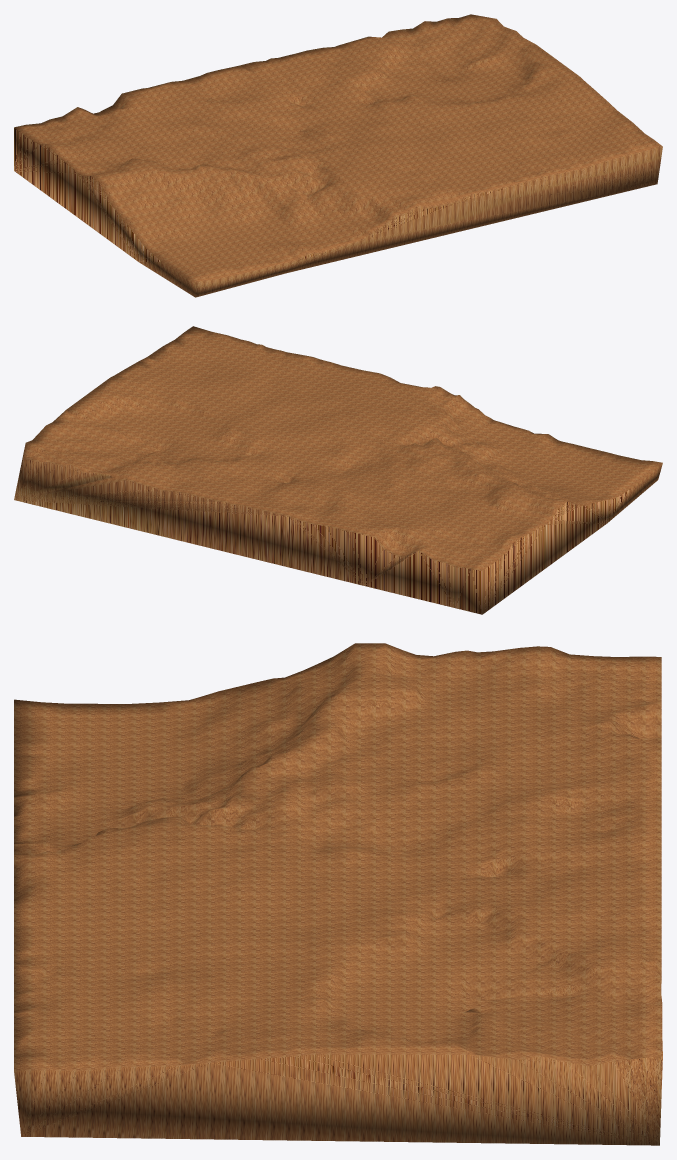
The model's file is Site1.dae.
3 views of the same model, one above another, from view 1: azimuth 30°, elevation 25°; view 2: azimuth 150°, elevation 25°; view 3: azimuth 270°, elevation 25° (orthographic). The views are drawn at different scales.
Parts seen in each view (by area): view 1: Cube_Cube.001; view 2: Cube_Cube.001; view 3: Cube_Cube.001.
Boxes of the visible parts, bbox=[...] form: Cube_Cube.001: bbox=[14, 14, 662, 297]; Cube_Cube.001: bbox=[14, 326, 662, 614]; Cube_Cube.001: bbox=[14, 643, 662, 1145].
Size of the model in its own units: 27.16 by 18.09 by 2.83.
1 material, 1 textured.
